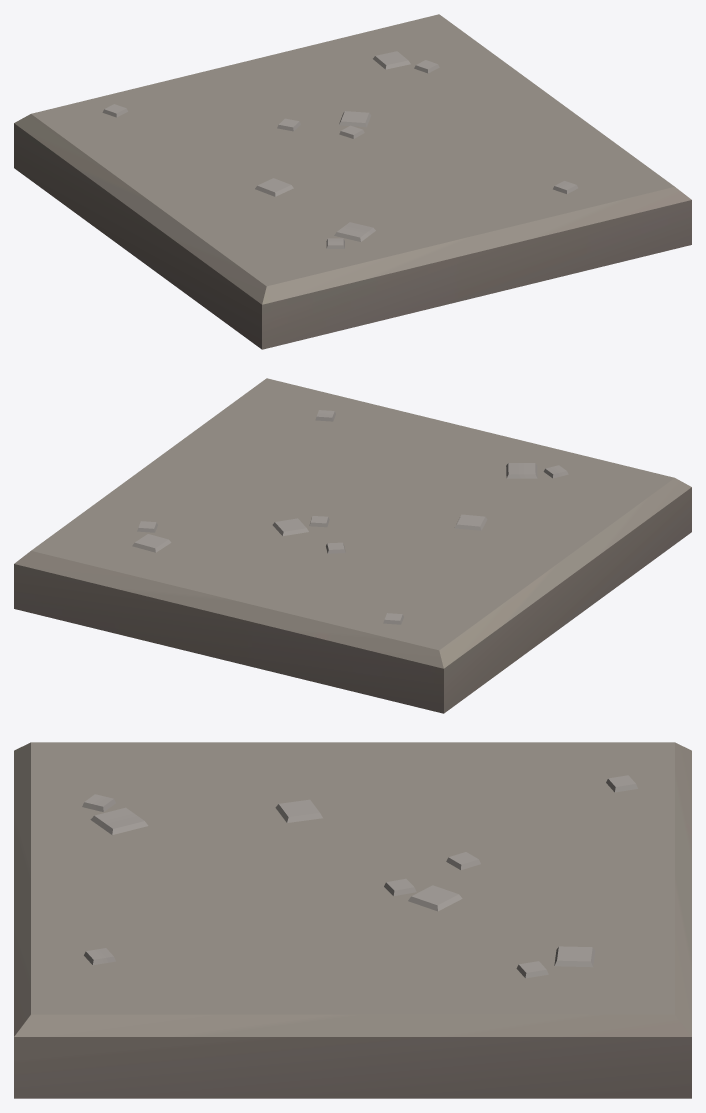
File: kaykit-halloween-bits-floor-dirt.glb
3 views of the same model, one above another, from view 1: azimuth 30°, elevation 25°; view 2: azimuth 150°, elevation 25°; view 3: azimuth 270°, elevation 25° (orthographic). The views are drawn at different scales.
Parts seen in each view (by area): view 1: floor_dirt; view 2: floor_dirt; view 3: floor_dirt.
Part boxes in pixels (<box>): floor_dirt: <box>14,14,691,349</box>; floor_dirt: <box>14,378,691,713</box>; floor_dirt: <box>14,742,691,1098</box>.
Size of the model in its own units: 4 by 0.5298 by 4.
Materials: 1 (1 with a texture image).
